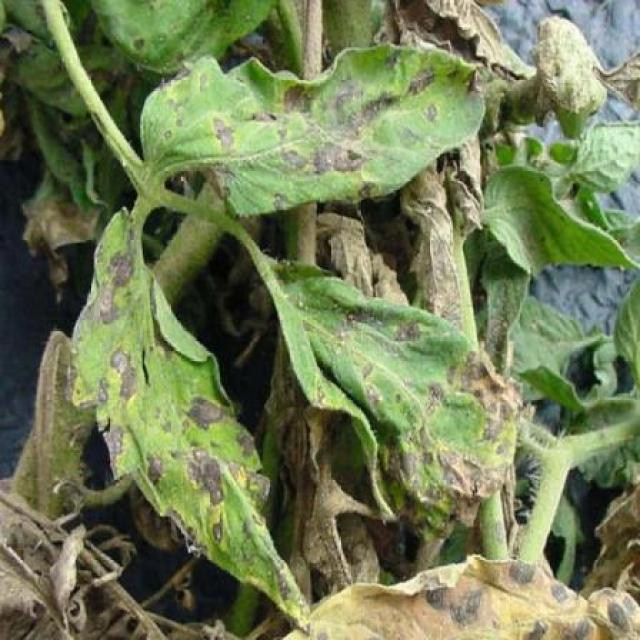Early Blight: (69, 224, 280, 639), (269, 257, 524, 534), (134, 49, 494, 214)
